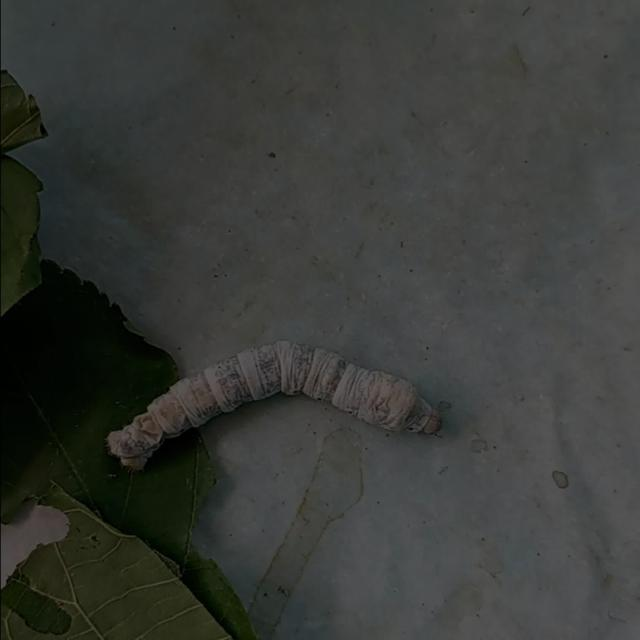Grasserie: (68, 314, 486, 559)
